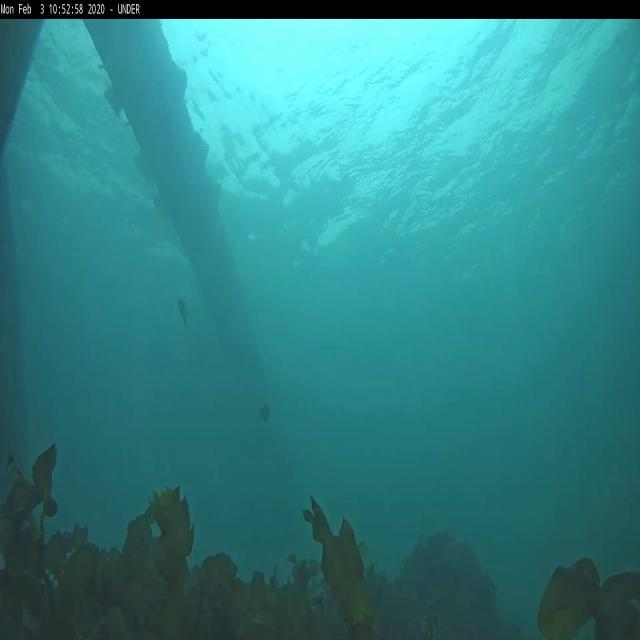fish: (177, 296, 190, 330), (257, 402, 272, 425)
